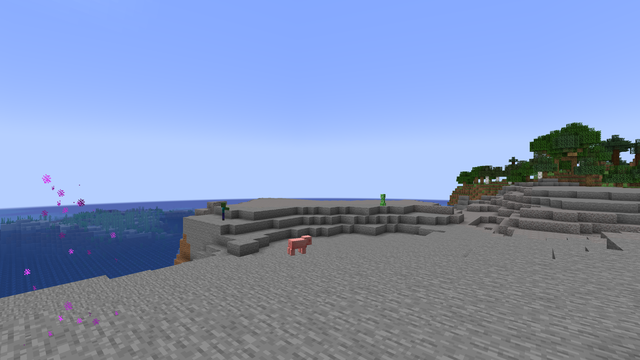cochons: (287, 236, 307, 255)
creepers: (380, 193, 385, 205)
zombies: (219, 202, 226, 219)
